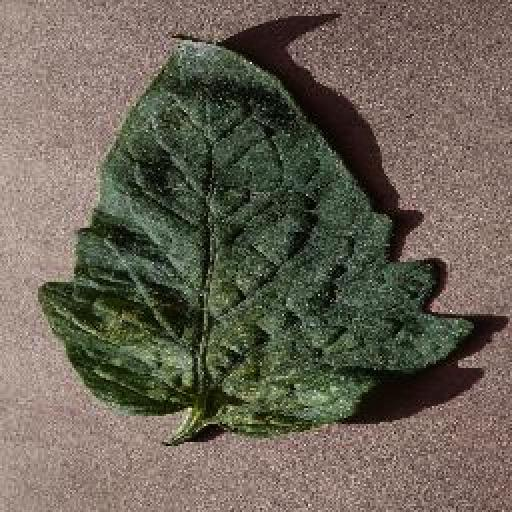disease_tomato: (38, 35, 474, 433)
